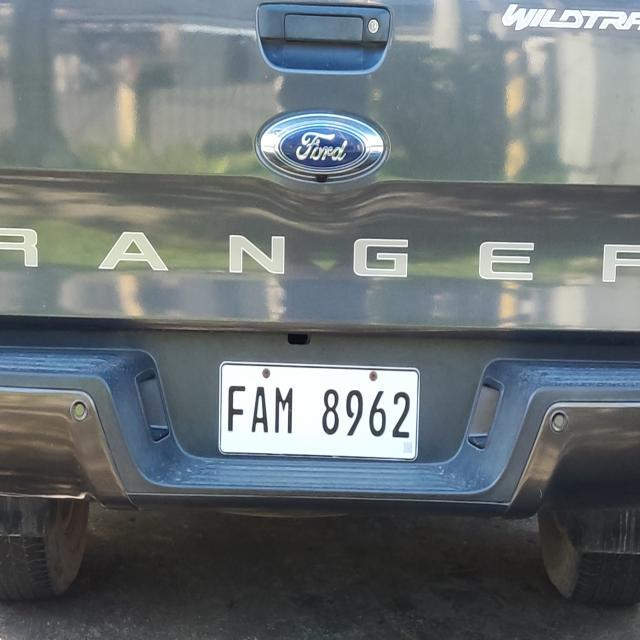LicensePlate: (220, 358, 424, 462)
